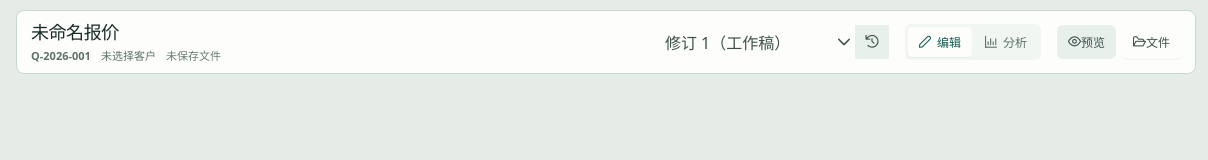
Test: QuotationCommandBar tooltips › keeps the viewport stable while showing zh-CN action tooltips
Hover over the button "预览" at [1086, 42], box [1057,25,1116,59]
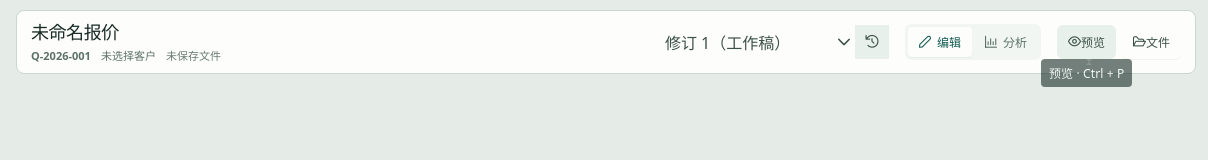
Check: the tooltip "预览 · Ctrl + P" is shown, box [1041,59,1132,87]
Hover over the heading "未命名报价" at [75, 32], box [31,20,119,44]
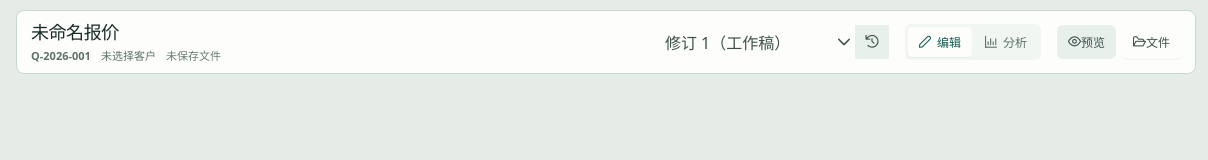
Check: the tooltip "预览 · Ctrl + P" is gone
